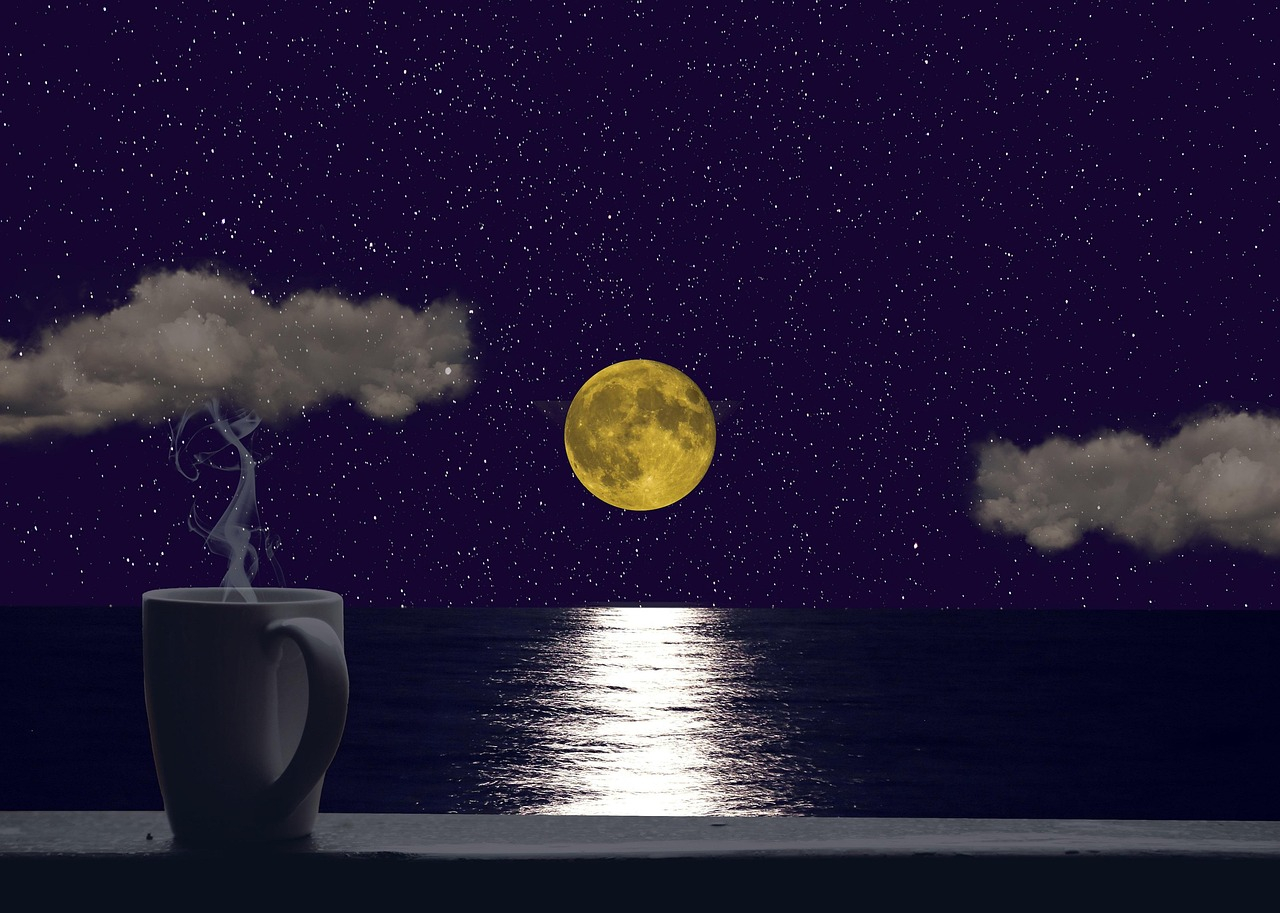mug: (118, 548, 388, 863)
